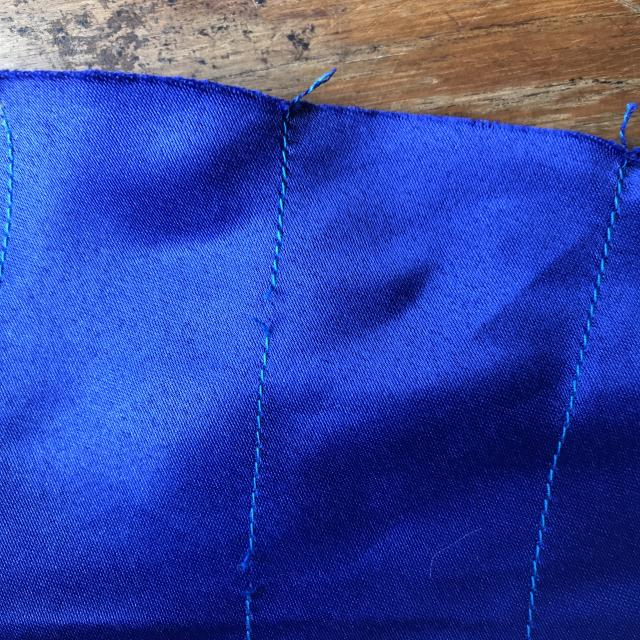broken: (238, 272, 322, 368), (210, 531, 282, 610)
good: (256, 168, 312, 242)
